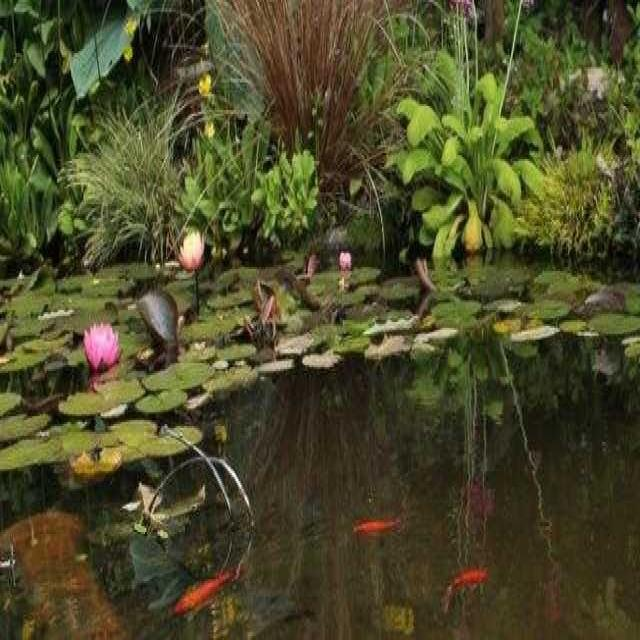Ponds: (8, 228, 640, 637)
